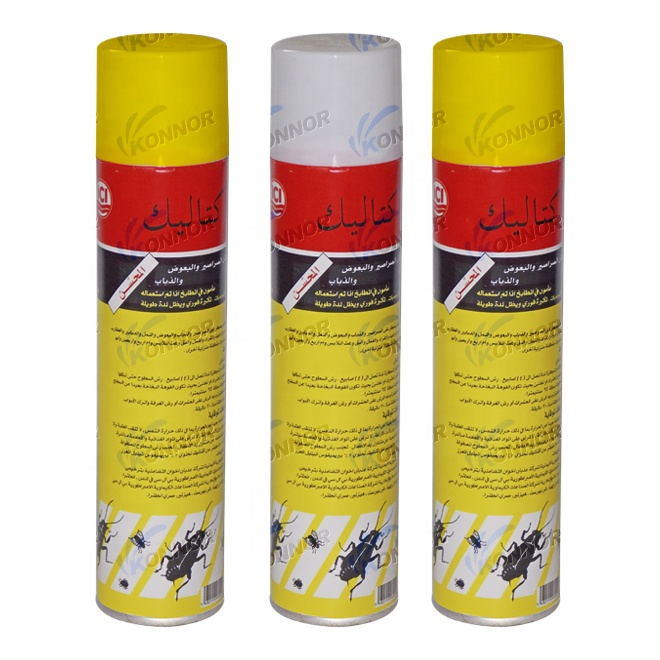Insecticide: (425, 26, 567, 632), (264, 27, 406, 633), (90, 28, 232, 634)
